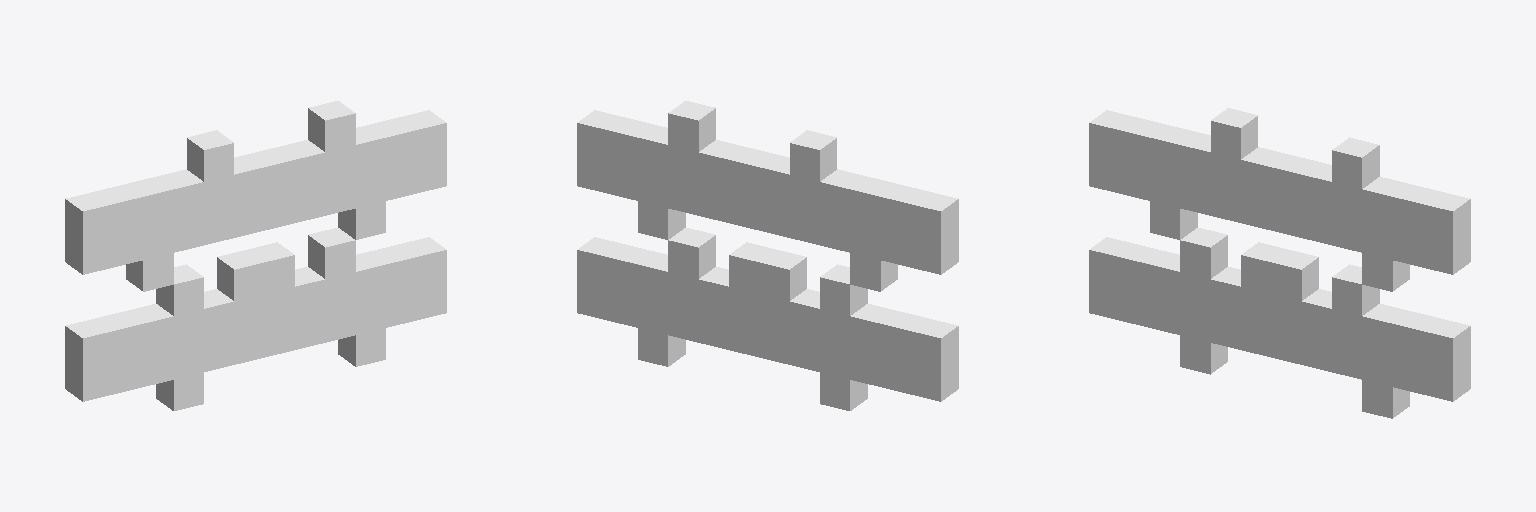
File: MazeGreen2StairsTreasure-2.vox.obj
3 views of the same model, side by side, from view 1: azimuth 30°, elevation 25°; view 2: azimuth 150°, elevation 25°; view 3: azimuth 330°, elevation 25° (orthographic).
Visible parts, largest first — view 1: object 1; view 2: object 1; view 3: object 1.
Part boxes in pixels (x1,y1,x2,y2): object 1: (65, 101, 446, 410); object 1: (577, 101, 958, 410); object 1: (1089, 108, 1470, 418).
Bounding box in the file's own units: 1.2 × 0.8 × 0.1.